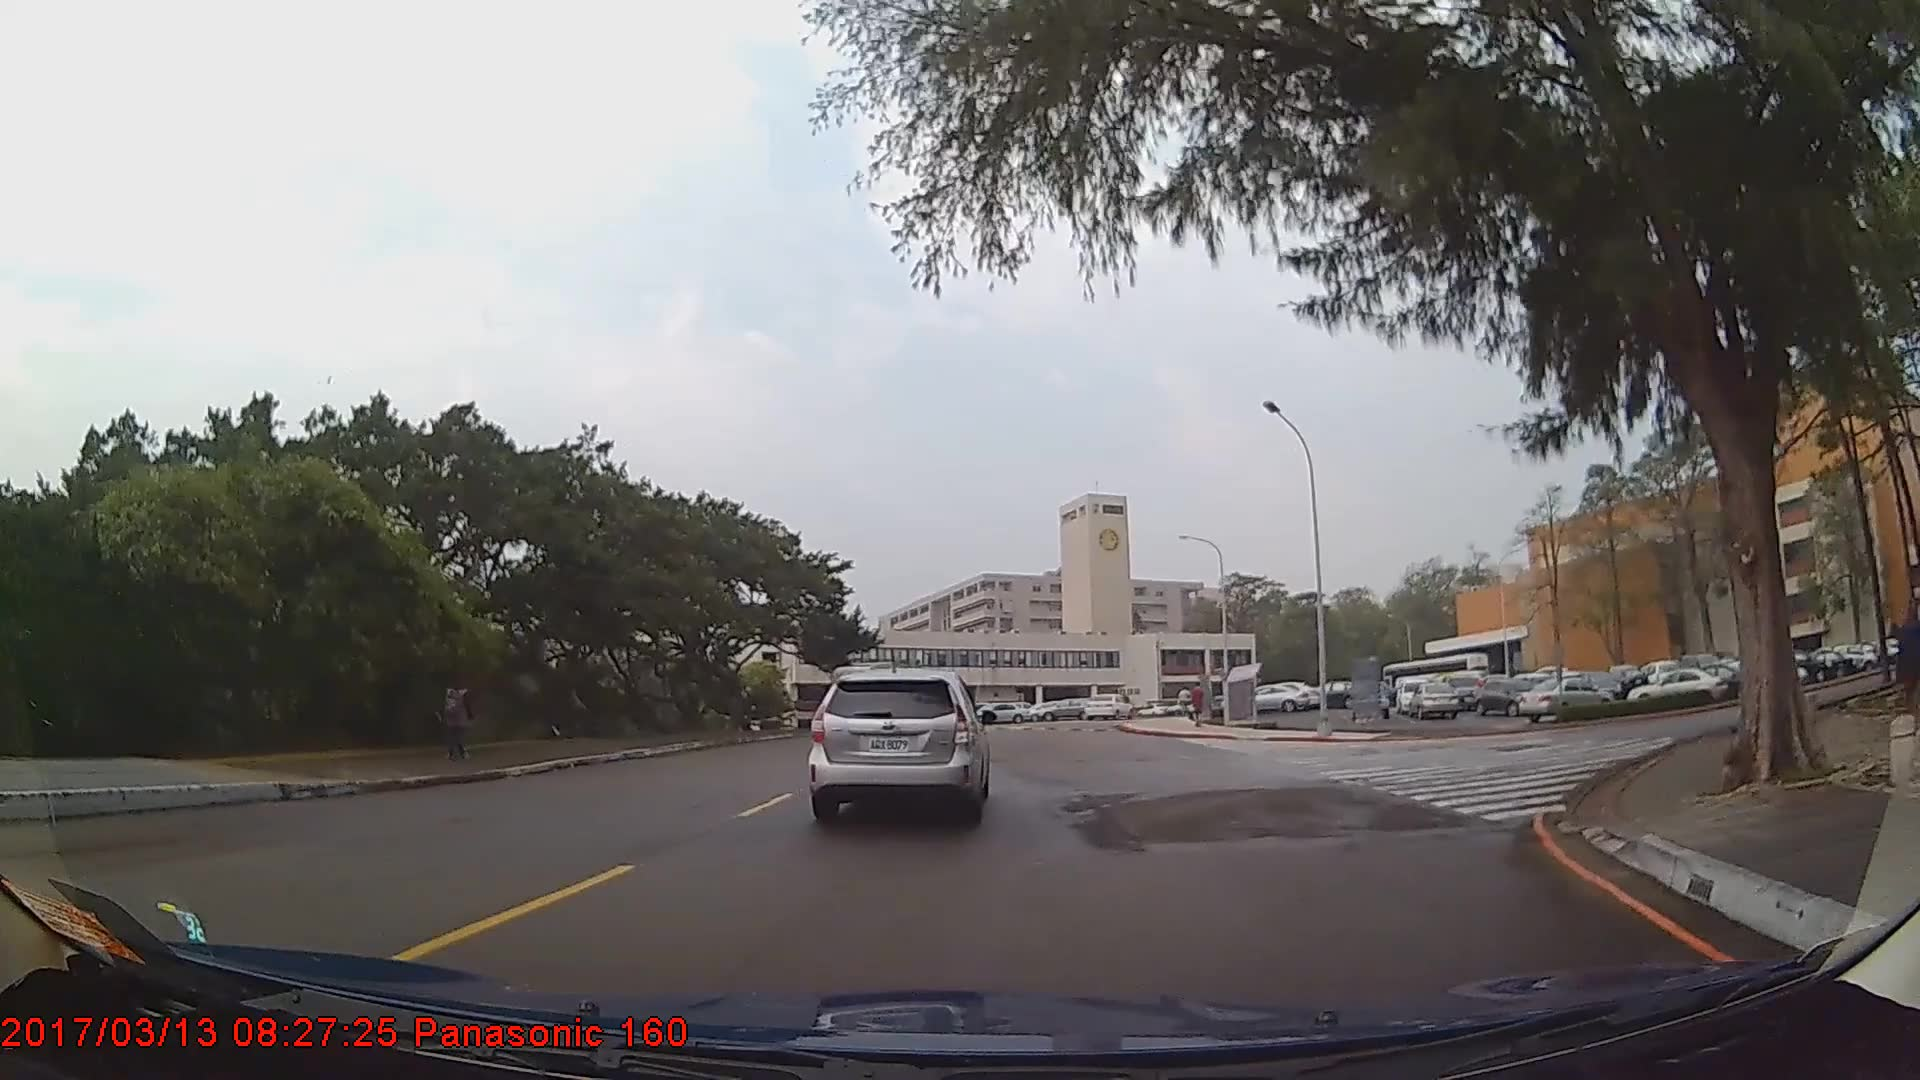pedestrian: (436, 665, 479, 757)
vehicle: (808, 666, 989, 823), (1515, 675, 1612, 724), (1626, 663, 1725, 709), (1473, 672, 1549, 714), (1409, 679, 1460, 719), (1241, 683, 1310, 712), (1078, 691, 1134, 723), (1031, 696, 1094, 720), (972, 698, 1029, 721)
